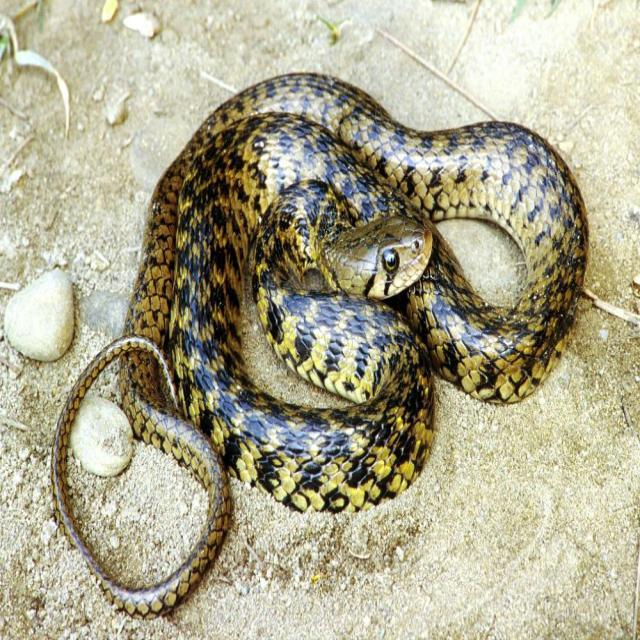Snake: (50, 70, 589, 620)
